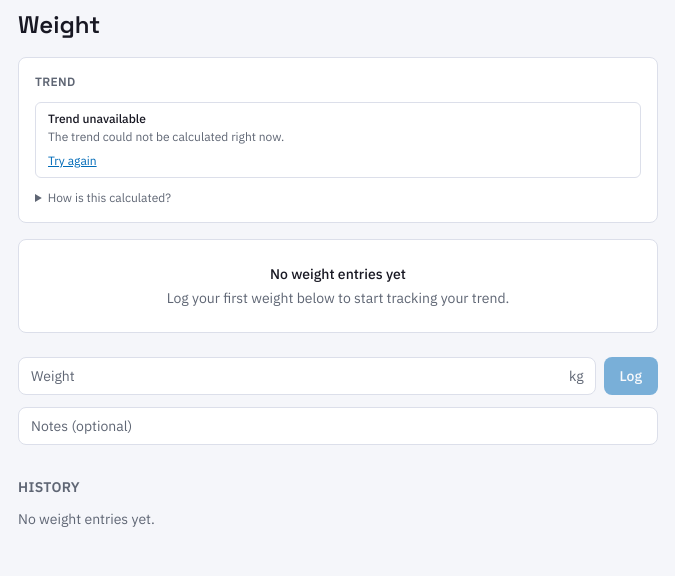
Test case: WeightLogPage — log form › shows API error message when log-weight returns no data
The width and height of the screenshot is (675, 576).
Expected: the button "Log" is shown, [604,357,658,395]
Type "85" into the number field labelled "Weight" at (307, 376), box [18,357,596,395]
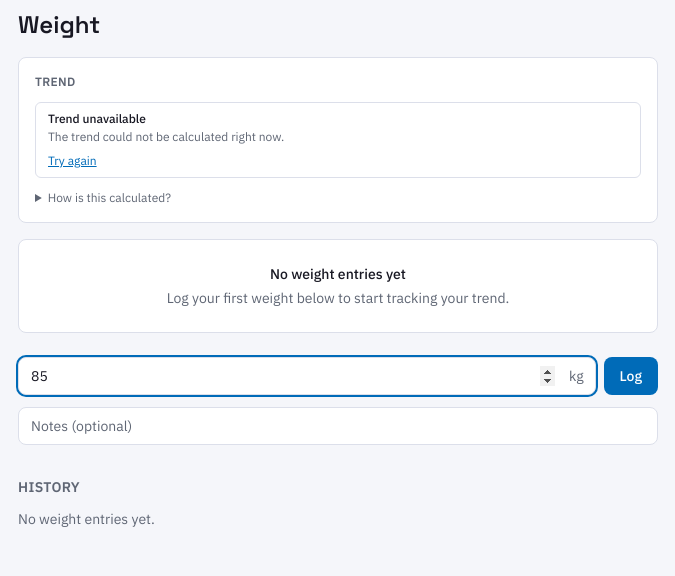
Click the button "Log" at (631, 376), box [604,357,658,395]
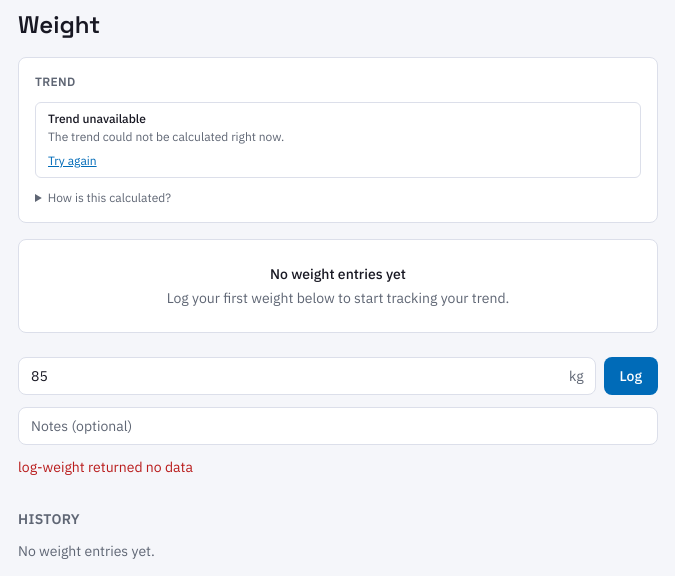
Result: the text "log-weight returned no data" is shown at [18,458,193,476]
